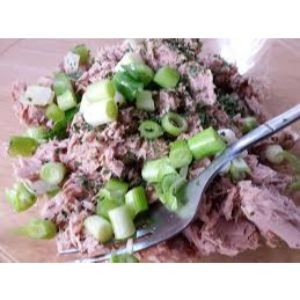tuna_brain food: (23, 48, 251, 249)
